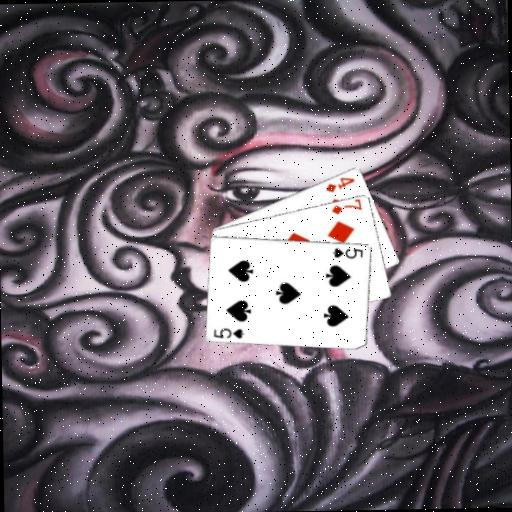4D: (323, 174, 357, 194)
5S: (330, 245, 365, 261), (212, 324, 246, 340)
7D: (328, 197, 363, 216)
